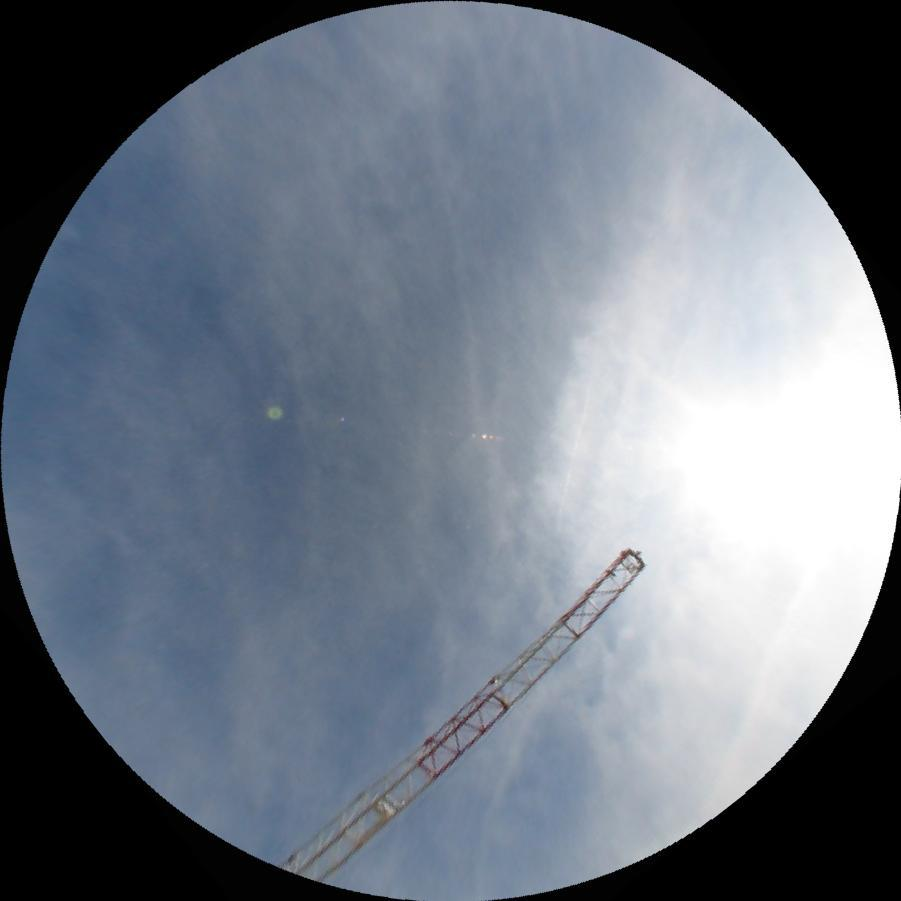contrail young: (552, 390, 591, 531)
